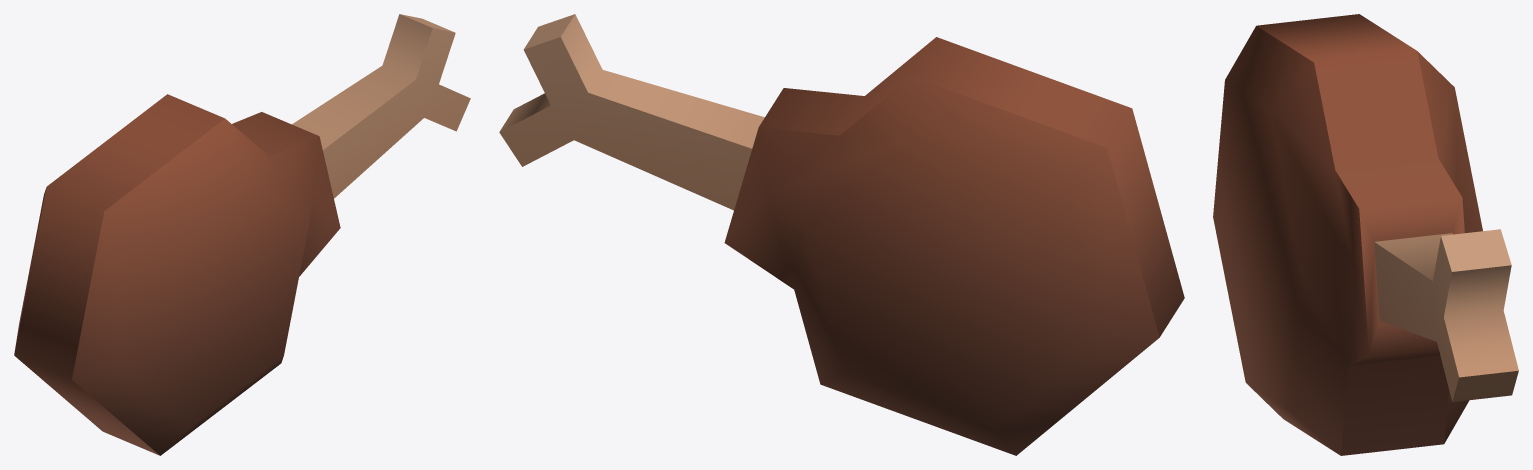
The model's file is turkey-leg.glb.
3 renders of one model, left to right at view 1: azimuth 30°, elevation 25°; view 2: azimuth 150°, elevation 25°; view 3: azimuth 270°, elevation 25°, orthographic. The views are drawn at different scales.
Visible parts, largest first — view 1: turkey-leg; view 2: turkey-leg; view 3: turkey-leg.
Boxes of the visible parts, x1=… form: turkey-leg: x1=14, y1=14, x2=470, y2=455; turkey-leg: x1=499, y1=14, x2=1184, y2=455; turkey-leg: x1=1213, y1=14, x2=1518, y2=455.
Bounding box in the file's own units: 0.43 × 0.2544 × 0.174.
